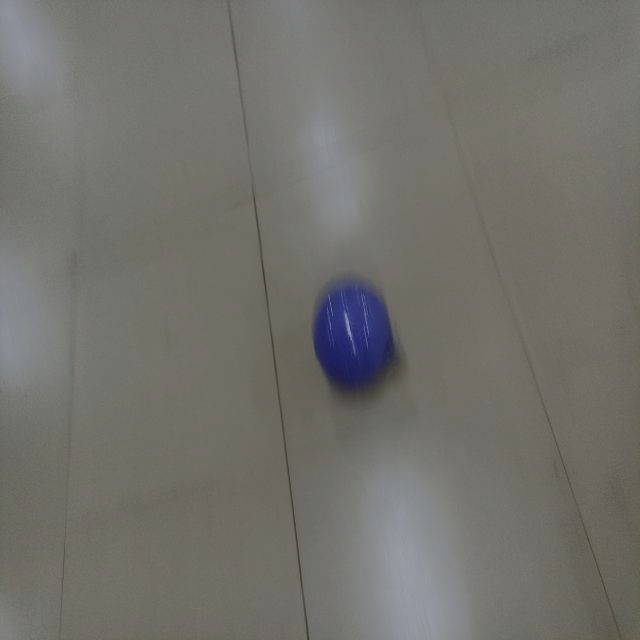purple_ball: (308, 269, 402, 397)
